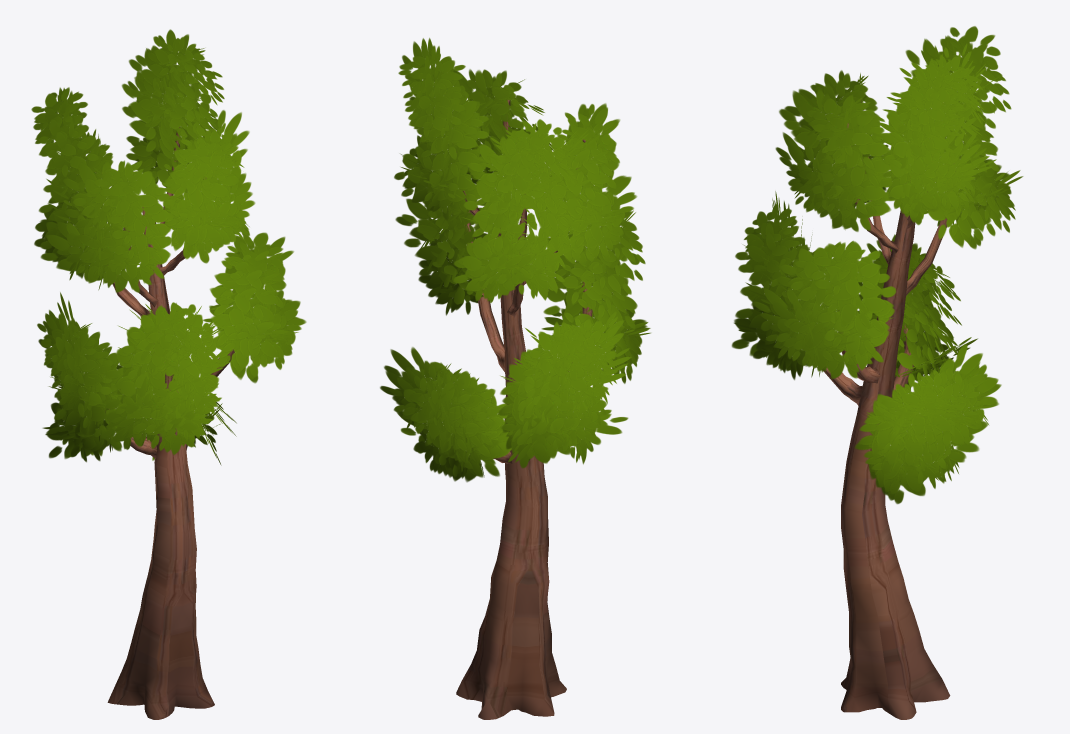
File: tree_oak1.glb
3 views of the same model, side by side, from view 1: azimuth 30°, elevation 25°; view 2: azimuth 150°, elevation 25°; view 3: azimuth 270°, elevation 25° (orthographic). The views are drawn at different scales.
Parts seen in each view (by area): view 1: CommonTree_3; view 2: CommonTree_3; view 3: CommonTree_3.
Boxes of the visible parts, box(x1,y1,x2,y2) form: CommonTree_3: box(31, 29, 306, 719); CommonTree_3: box(380, 38, 650, 719); CommonTree_3: box(731, 26, 1023, 719).
Size of the model in its own units: 4.07 by 9.43 by 4.25.
2 materials, 2 textured.
